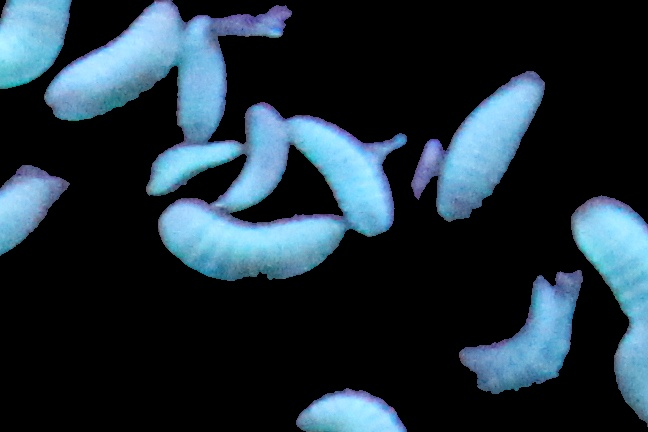larvae: (437, 77, 545, 229), (50, 3, 182, 119), (284, 117, 402, 237), (161, 204, 342, 281), (470, 275, 573, 394), (574, 191, 648, 330), (219, 99, 299, 210), (292, 380, 407, 432), (1, 1, 66, 90), (1, 170, 55, 277), (178, 18, 224, 141), (145, 139, 236, 198)
